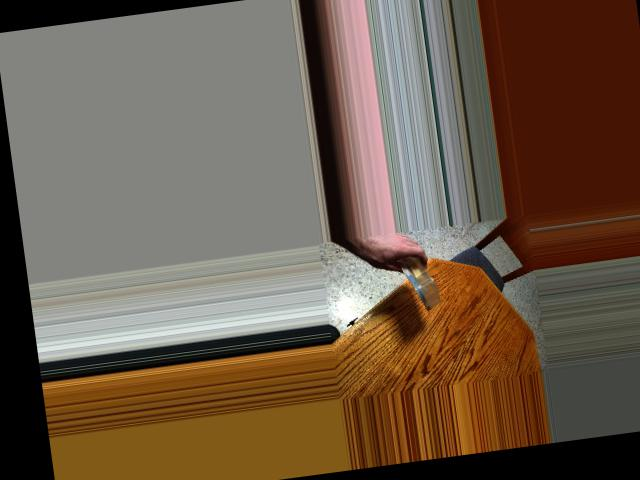cheese: (398, 245, 442, 316)
